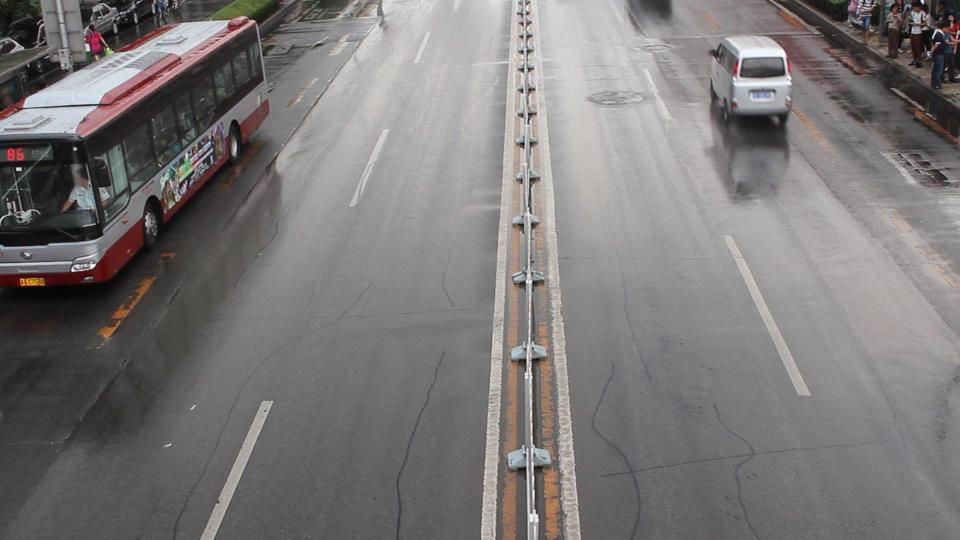Bus: (1, 13, 269, 287)
Minivan: (708, 35, 791, 119)
